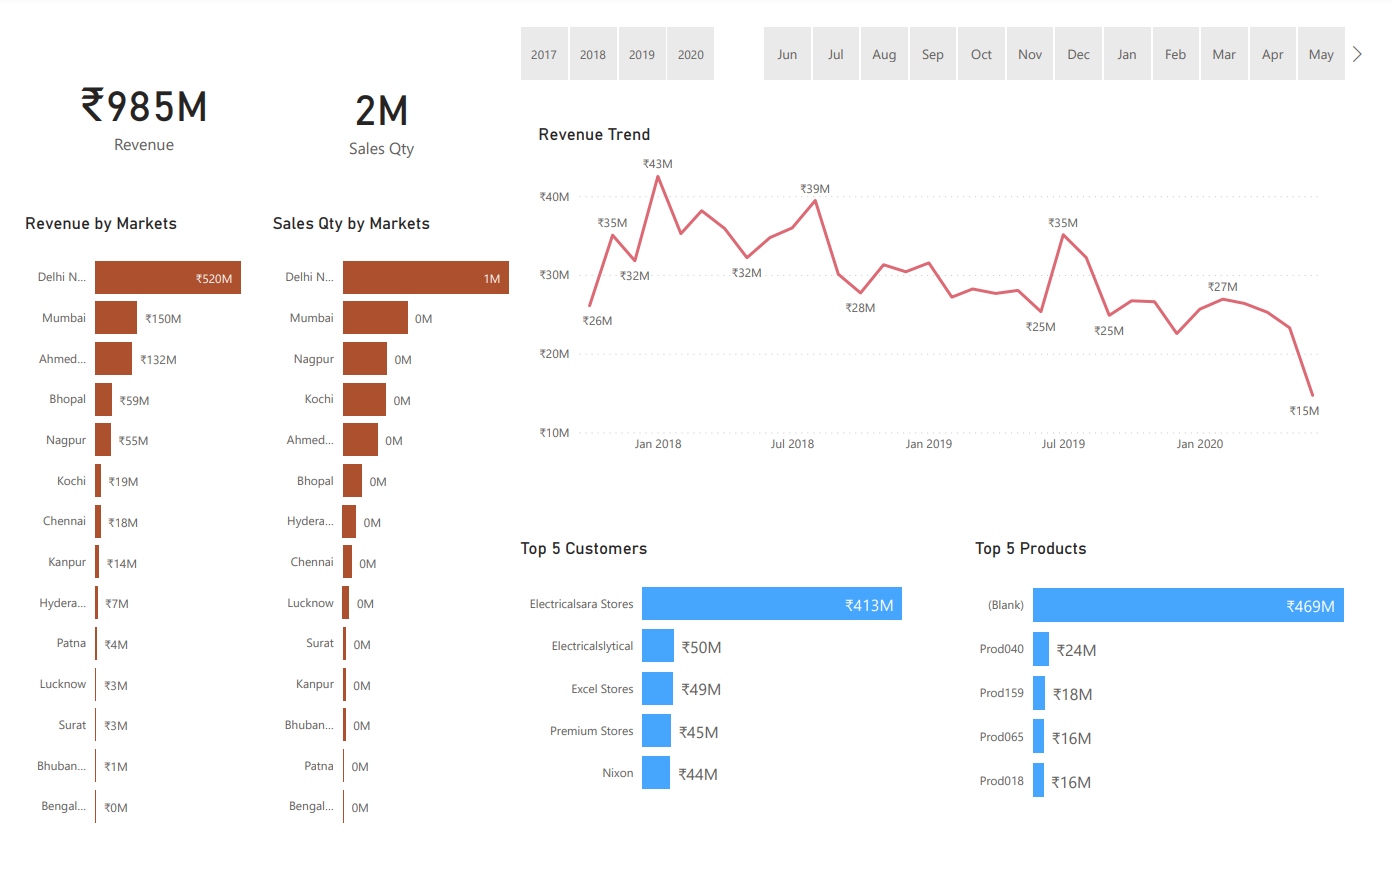

The page's visual inventory and layout, read from the dashboard file:
{"tool":"powerbi","page":{"name":"Key Insights","canvas":[1350,850],"ordinal":0},"visuals":[{"type":"card","fields":{"Values":["BaseMeasures (2).Revenue"]},"box":[0,0,247.9,184.6],"z":0},{"type":"card","fields":{"Values":["BaseMeasures (2).Sales Qty"]},"box":[247.9,0,227.9,193.1],"z":1000},{"type":"barChart","title":"Revenue by Markets","fields":{"Y":["BaseMeasures (2).Revenue"],"Category":["sales markets.markets_name"]},"box":[0,193.1,247.9,631.9],"z":2000},{"type":"barChart","title":"Sales Qty by Markets","fields":{"Y":["BaseMeasures (2).Sales Qty"],"Category":["sales markets.markets_name"]},"box":[247.9,193.1,247.9,631.9],"z":3000},{"type":"slicer","fields":{"Values":["sales date.year"]},"box":[474.7,0,244.6,66.6],"z":4000},{"type":"slicer","fields":{"Values":["sales date.cy_date"]},"box":[719.3,0,631,66.6],"z":5000},{"type":"barChart","title":"Top 5 Customers","fields":{"Y":["BaseMeasures (2).Revenue"],"Category":["sales customers.custmer_name"]},"box":[495.8,519,446.2,274.3],"z":6000},{"type":"barChart","title":"Top 5 Products","fields":{"Y":["BaseMeasures (2).Revenue"],"Category":["sales products.product_code"]},"box":[950.7,519.2,399.5,282.8],"z":7000},{"type":"lineChart","title":"Revenue Trend","fields":{"Y":["BaseMeasures (2).Revenue"],"Category":["sales date.cy_date"]},"box":[513.8,104.4,809.1,338.6],"z":8000}]}

Visuals, with their boxes in screenshot pixels (x1, y1, x2, y2), scaled from the page's 1350x850 canvas onto the 1392x889 screenshot:
card - BaseMeasures (2).Revenue: l=0, t=0, r=256, b=193
card - BaseMeasures (2).Sales Qty: l=256, t=0, r=491, b=202
"Revenue by Markets" barChart: l=0, t=202, r=256, b=863
"Sales Qty by Markets" barChart: l=256, t=202, r=511, b=863
slicer - sales date.year: l=489, t=0, r=742, b=70
slicer - sales date.cy_date: l=742, t=0, r=1391, b=70
"Top 5 Customers" barChart: l=511, t=543, r=971, b=830
"Top 5 Products" barChart: l=980, t=543, r=1391, b=839
"Revenue Trend" lineChart: l=530, t=109, r=1364, b=463
